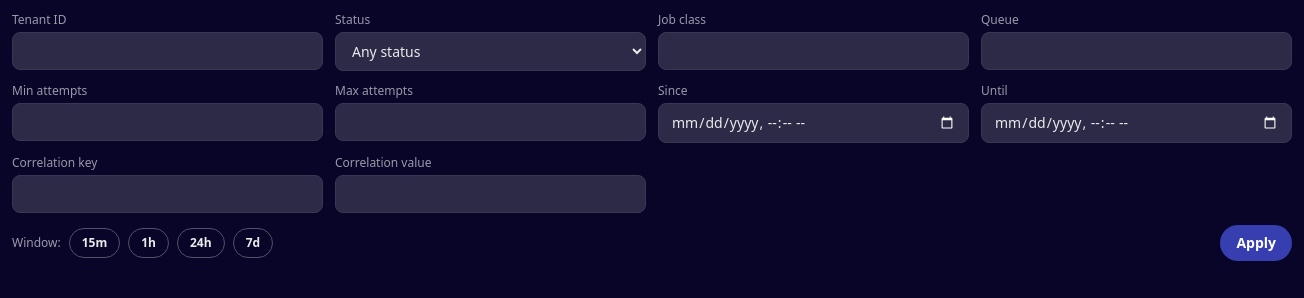
Test: FilterBuilder › shows a max-attempts error and blocks apply when min > max
The image size is (1304, 298).
Step 1. Type "5" into the number field labelled "Min attempts" → (168, 122), box [12,103,323,141]
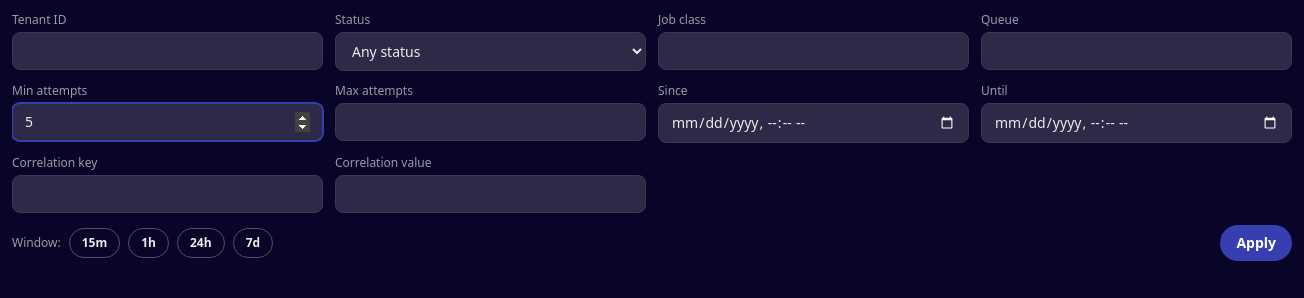
Step 2. Type "2" into the number field labelled "Max attempts" → (490, 122), box [335,103,646,141]
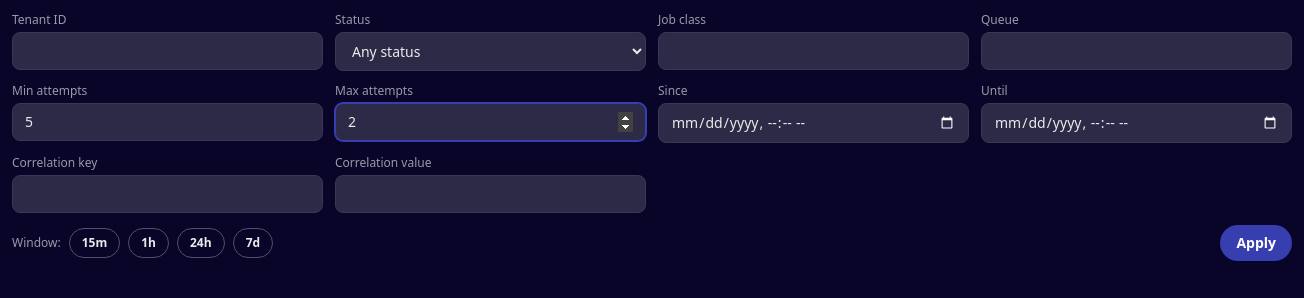
Step 3. Click the button "Apply" → (1256, 243), box [1220,225,1292,261]
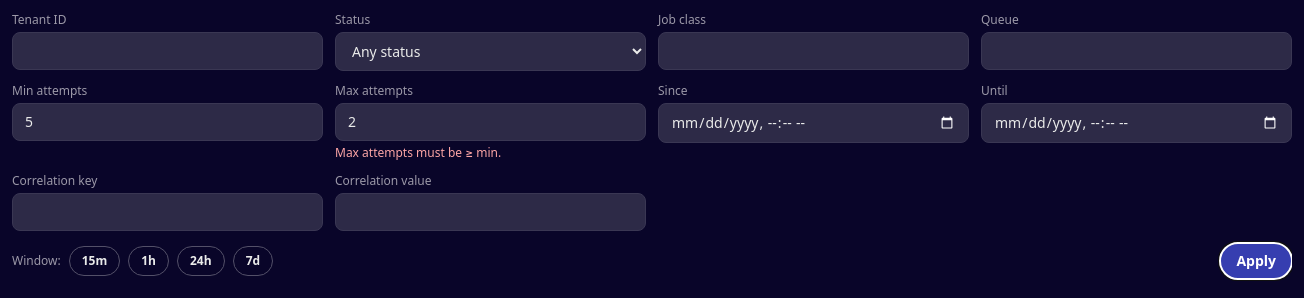
Expected: the text "Max attempts must be ≥ min." is shown, [335,144,501,161]
